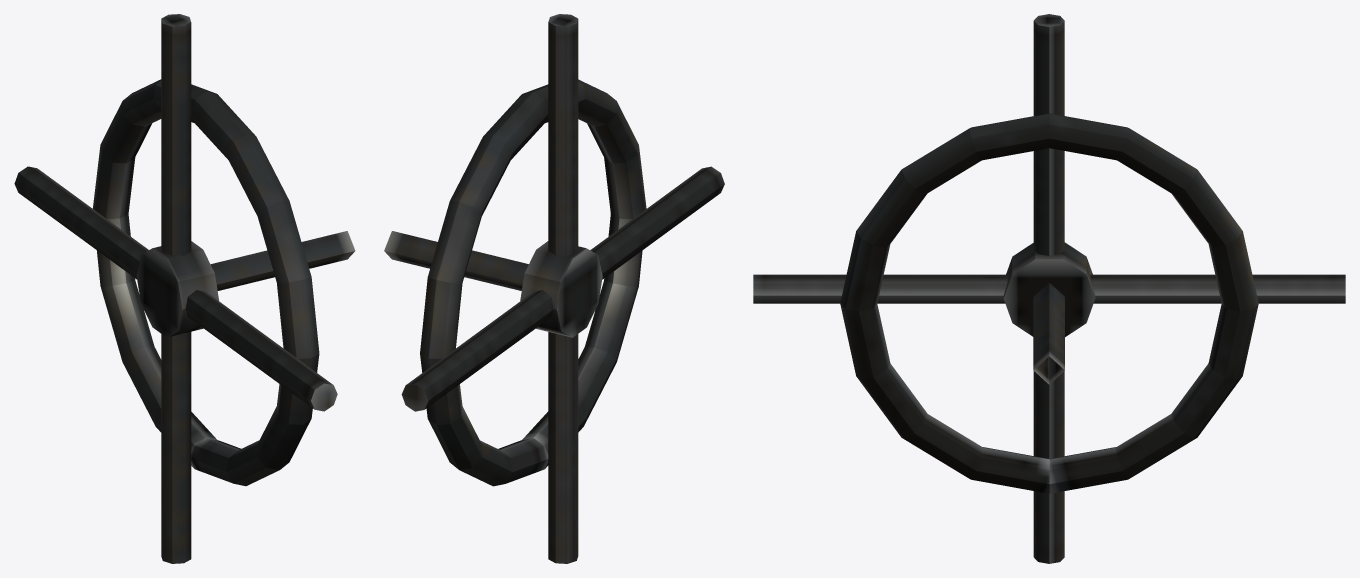
The model's file is 排污球阀.obj.
3 renders of one model, left to right at view 1: azimuth 30°, elevation 25°; view 2: azimuth 150°, elevation 25°; view 3: azimuth 270°, elevation 25°, orthographic.
Parts seen in each view (by area): view 1: default010; view 2: default010; view 3: default010.
Part boxes in pixels (x1,y1,x2,y2): default010: [14, 14, 355, 563]; default010: [384, 14, 724, 563]; default010: [753, 14, 1345, 563].
Bounding box in the file's own units: 0.711 × 1.94 × 1.94.
